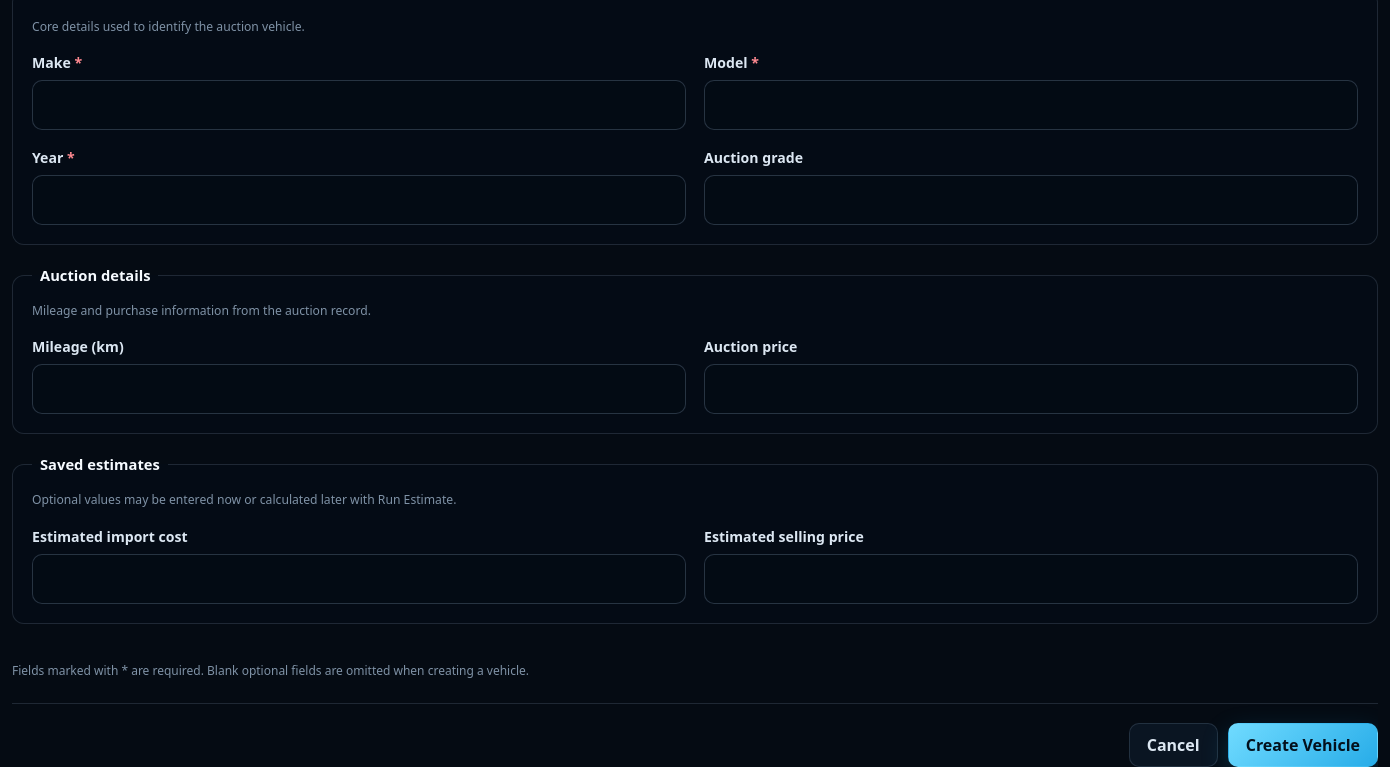
it: VehicleForm › shows client errors when required fields are empty
(page scrolled)
Click the button "Create Vehicle" at (1303, 745), box [1228, 723, 1378, 766]
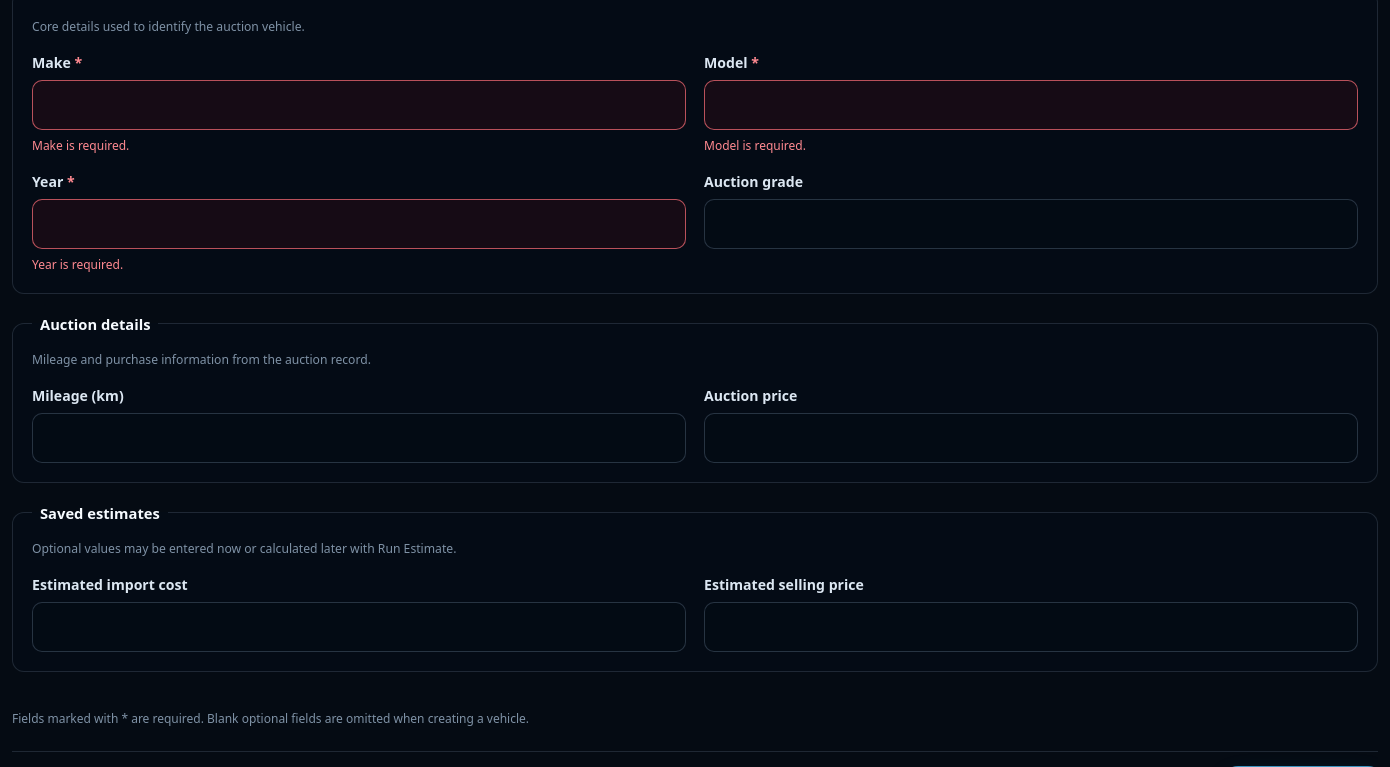
Now the text "Make is required." is shown, box [32, 137, 129, 154]
Now the text "Model is required." is shown, box [704, 137, 806, 154]
Now the text "Year is required." is shown, box [32, 256, 123, 273]
